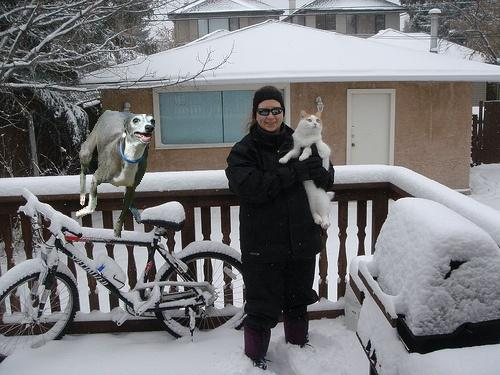tampered: (77, 111, 155, 238)
